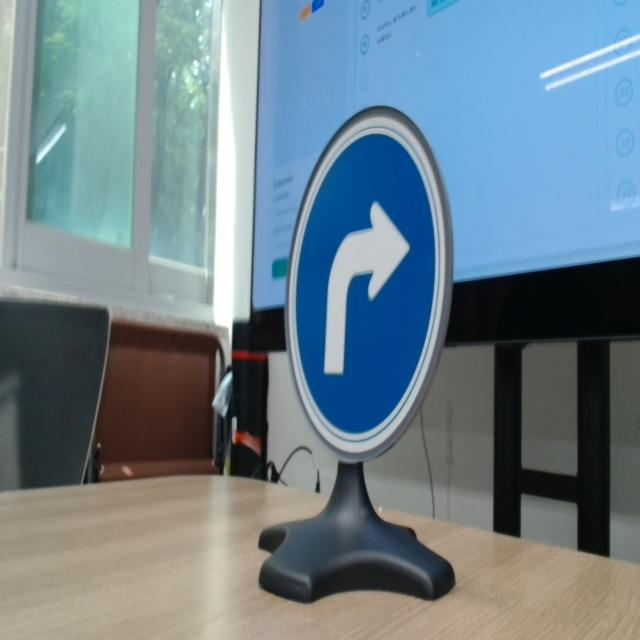right_dierection: (280, 74, 468, 480)
